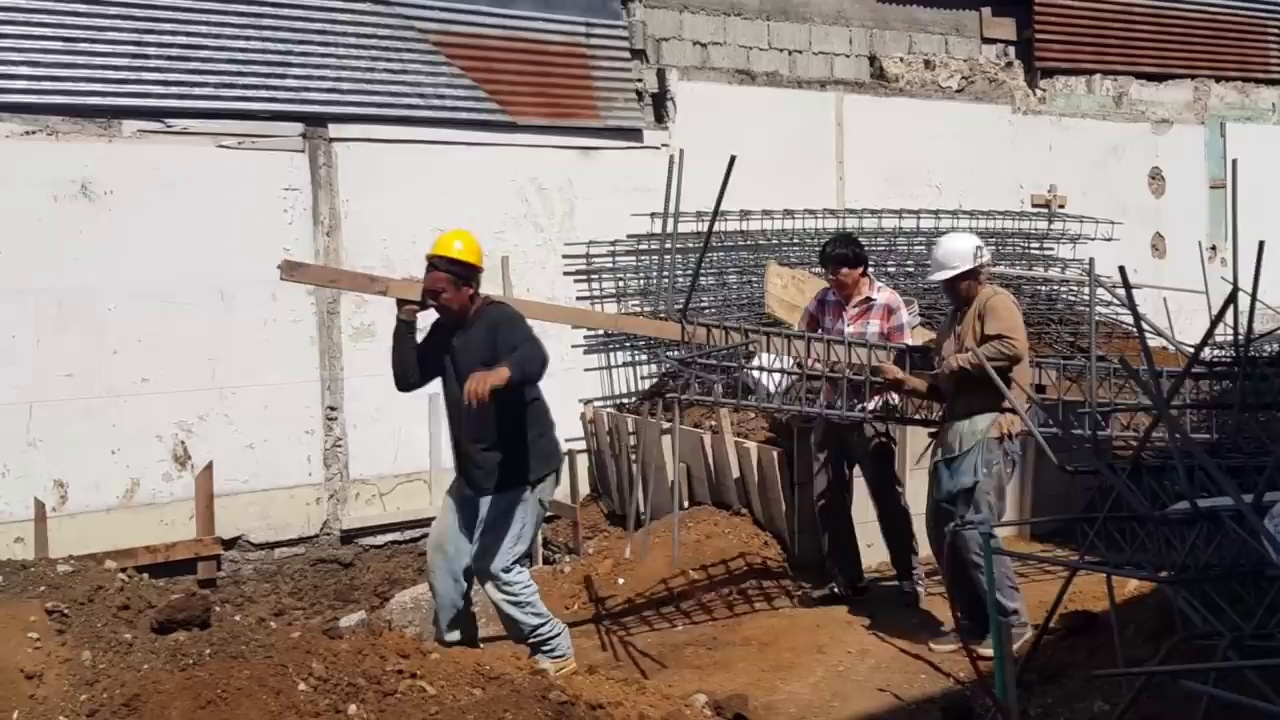helmet: (923, 228, 991, 281), (426, 227, 486, 272)
helmet-off: (821, 234, 869, 299)
helmet-on: (414, 226, 486, 323), (924, 229, 997, 313)
person: (392, 217, 578, 695), (880, 229, 1031, 659), (794, 228, 913, 611)
